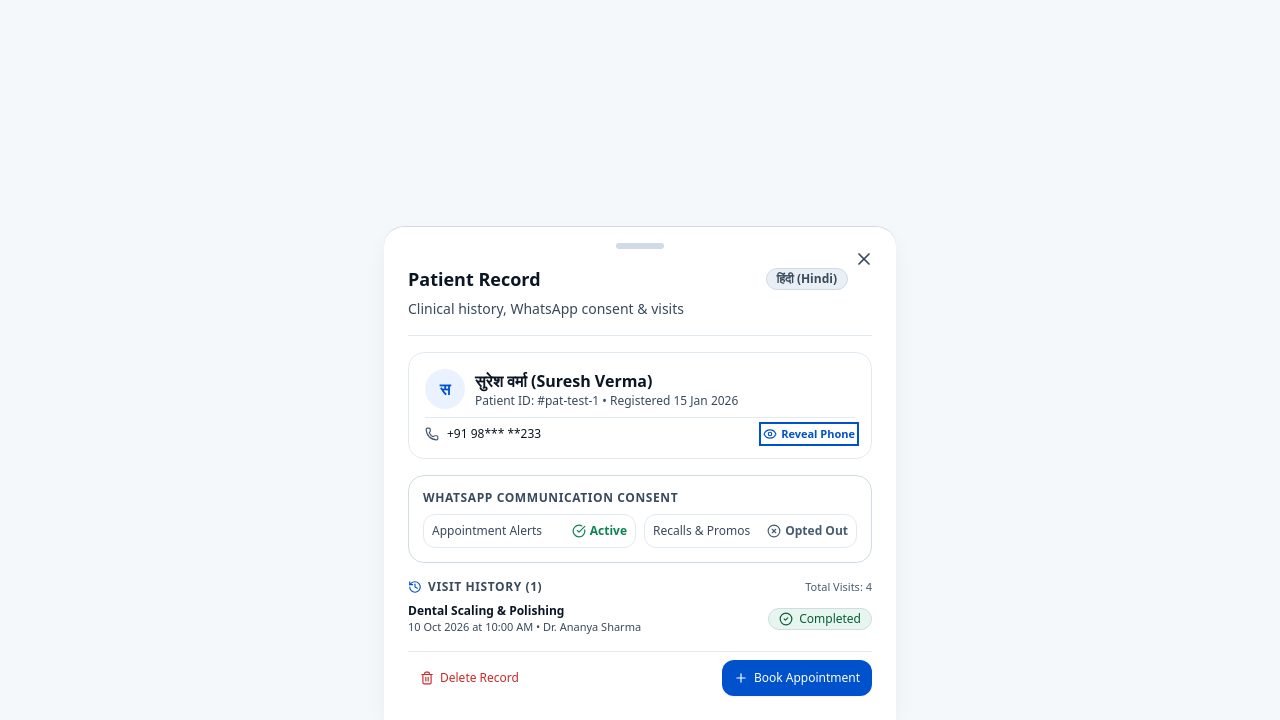
Test: Patients & Follow-ups Components › renders PatientProfileSheet with masked phone and toggles reveal
Expected: the heading "सुरेश वर्मा (Suresh Verma)" is shown, [475,370,652,392]
Expected: the text "Dental Scaling & Polishing" is shown, [408,603,564,619]
Tap to reveal
Click the button "Reveal Phone".
click(809, 434)  # box [763,426,855,442]
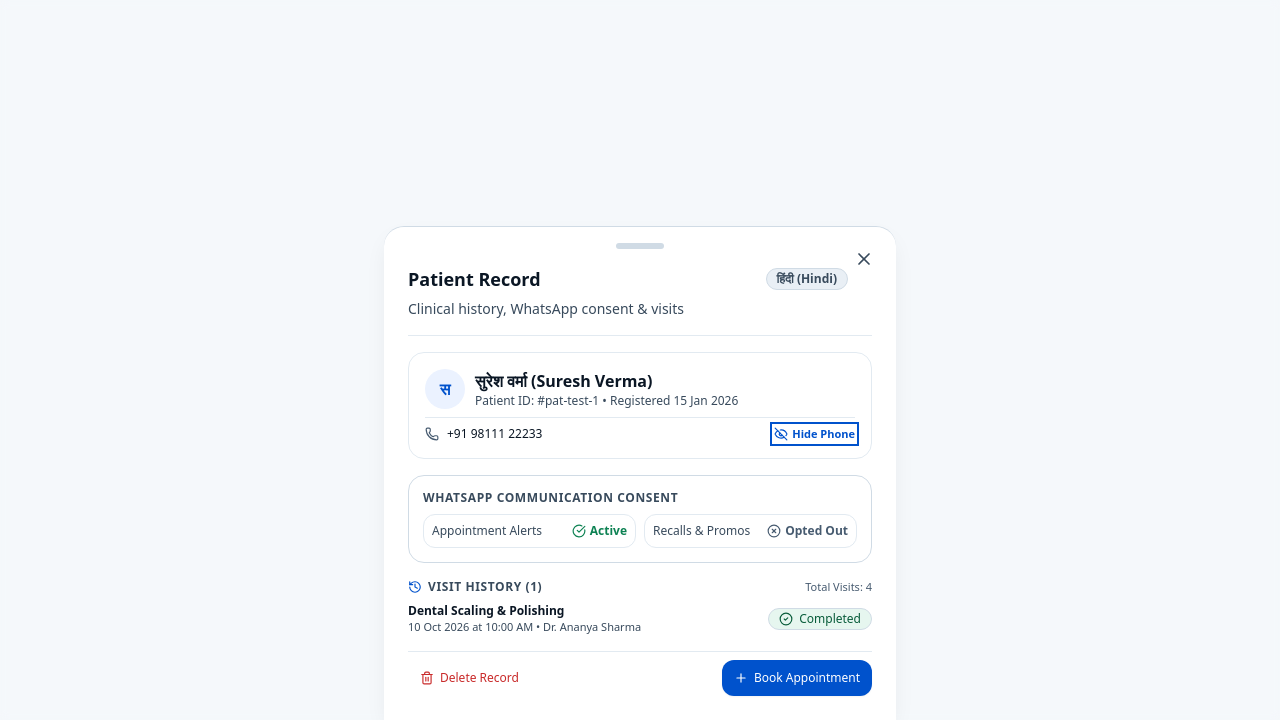
Now the text "+91 98111 22233" is shown, box [447,426,542,442]
